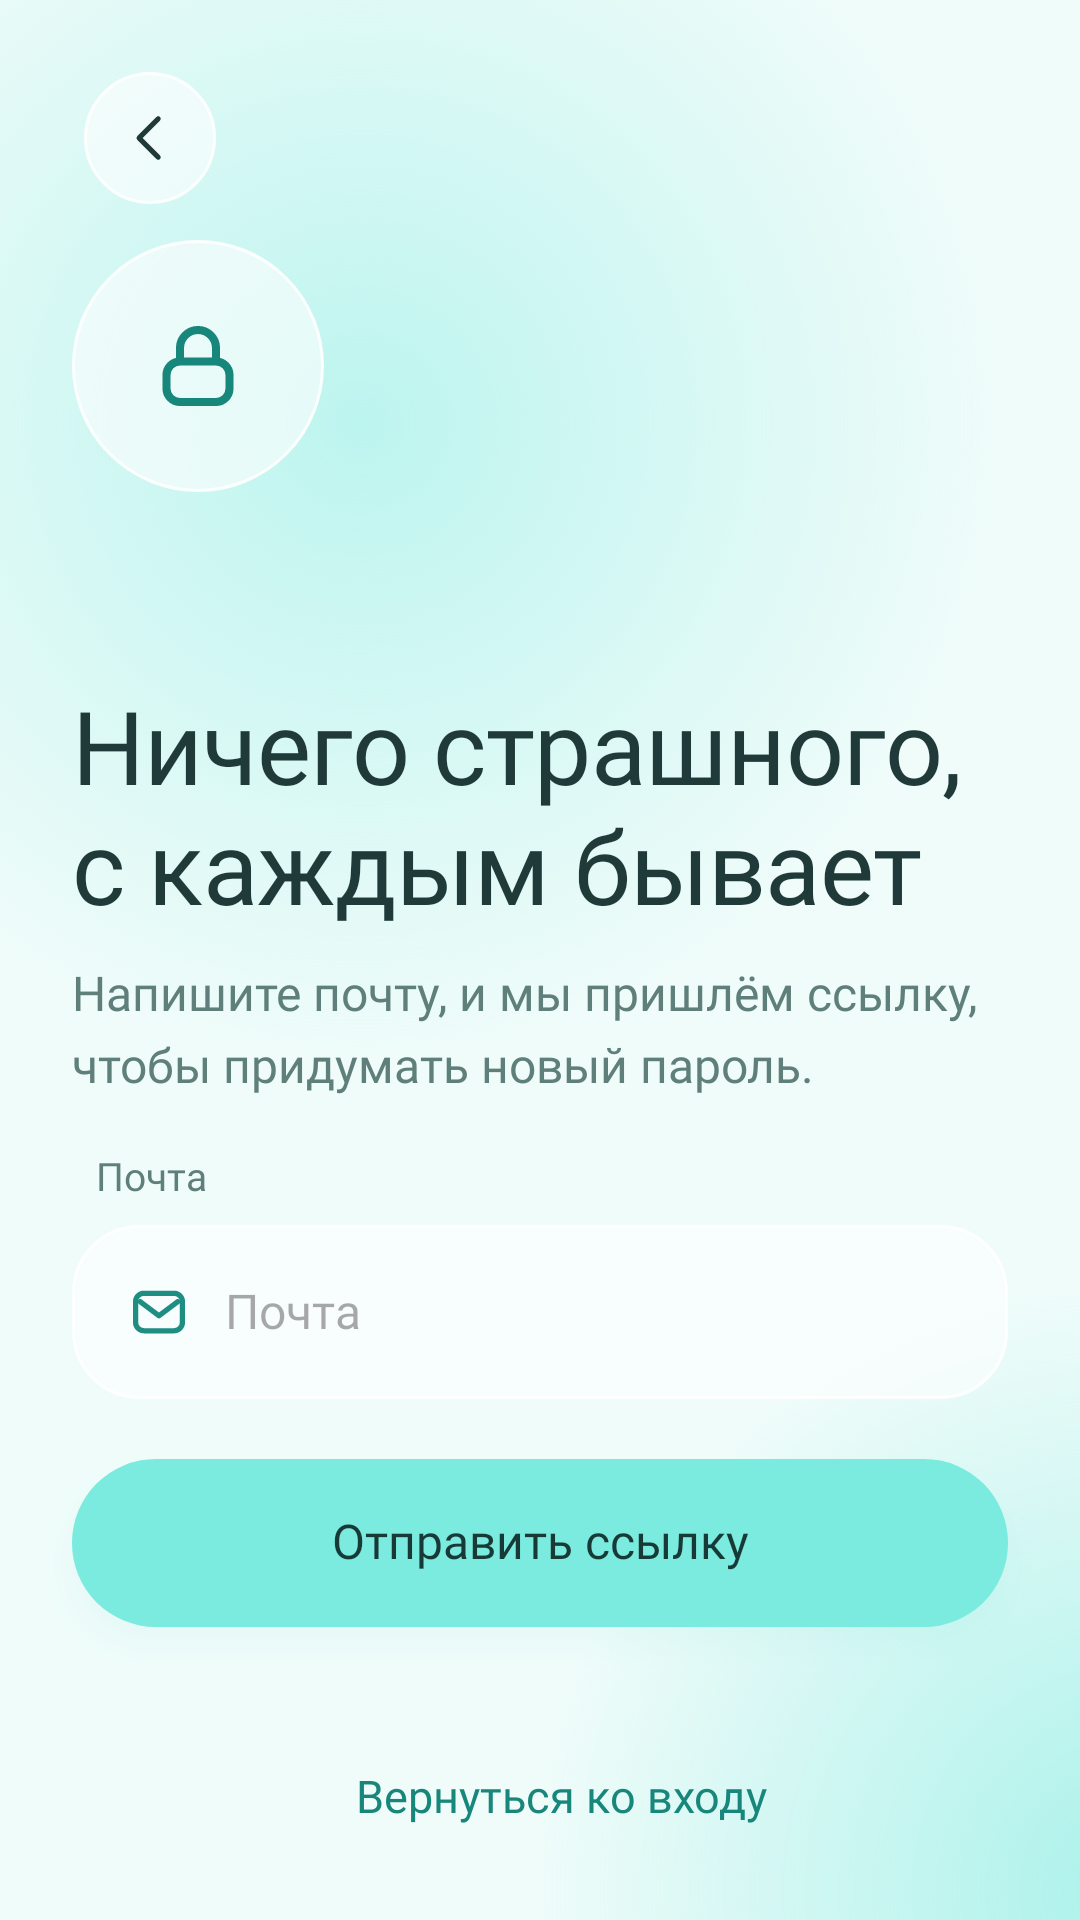

Named icons in this screenshot (1080px x 1920px) and their centers, [x,y]:
Назад: [148,138]
Пароль: [198,366]
